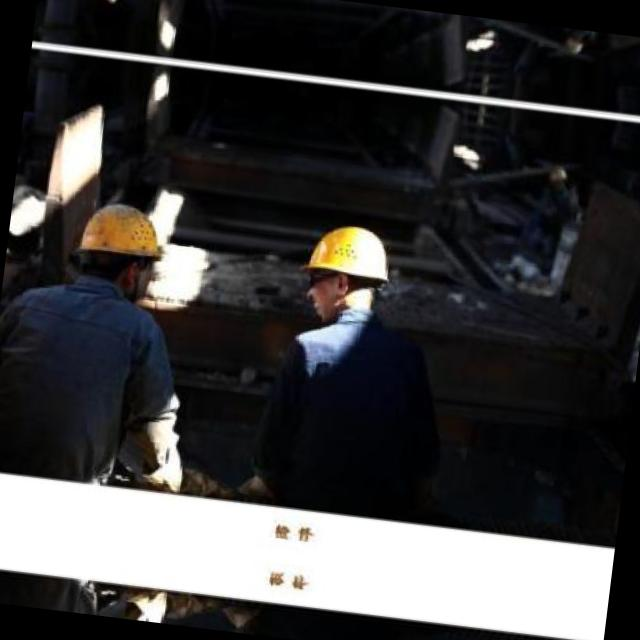helmet: (290, 207, 400, 333), (66, 189, 174, 303)
